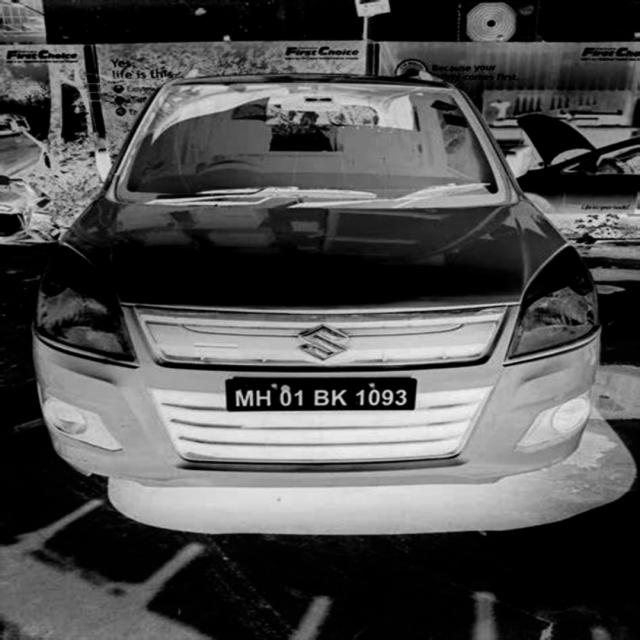Non_registered: (228, 375, 415, 415)
